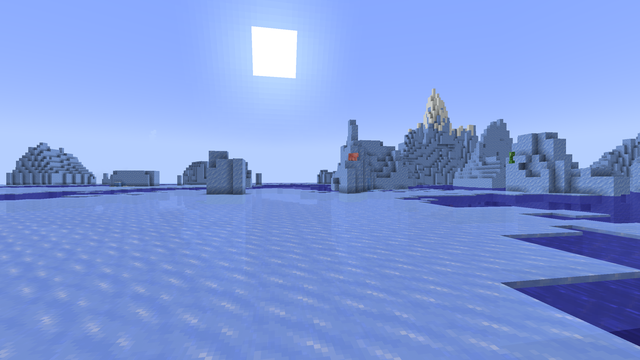cochons: (348, 152, 357, 160)
creepers: (508, 151, 515, 163)
